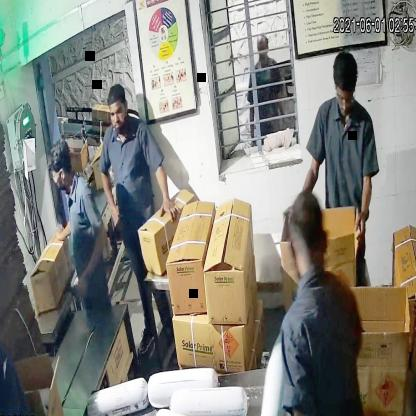no_goggles: (105, 101, 130, 124)
